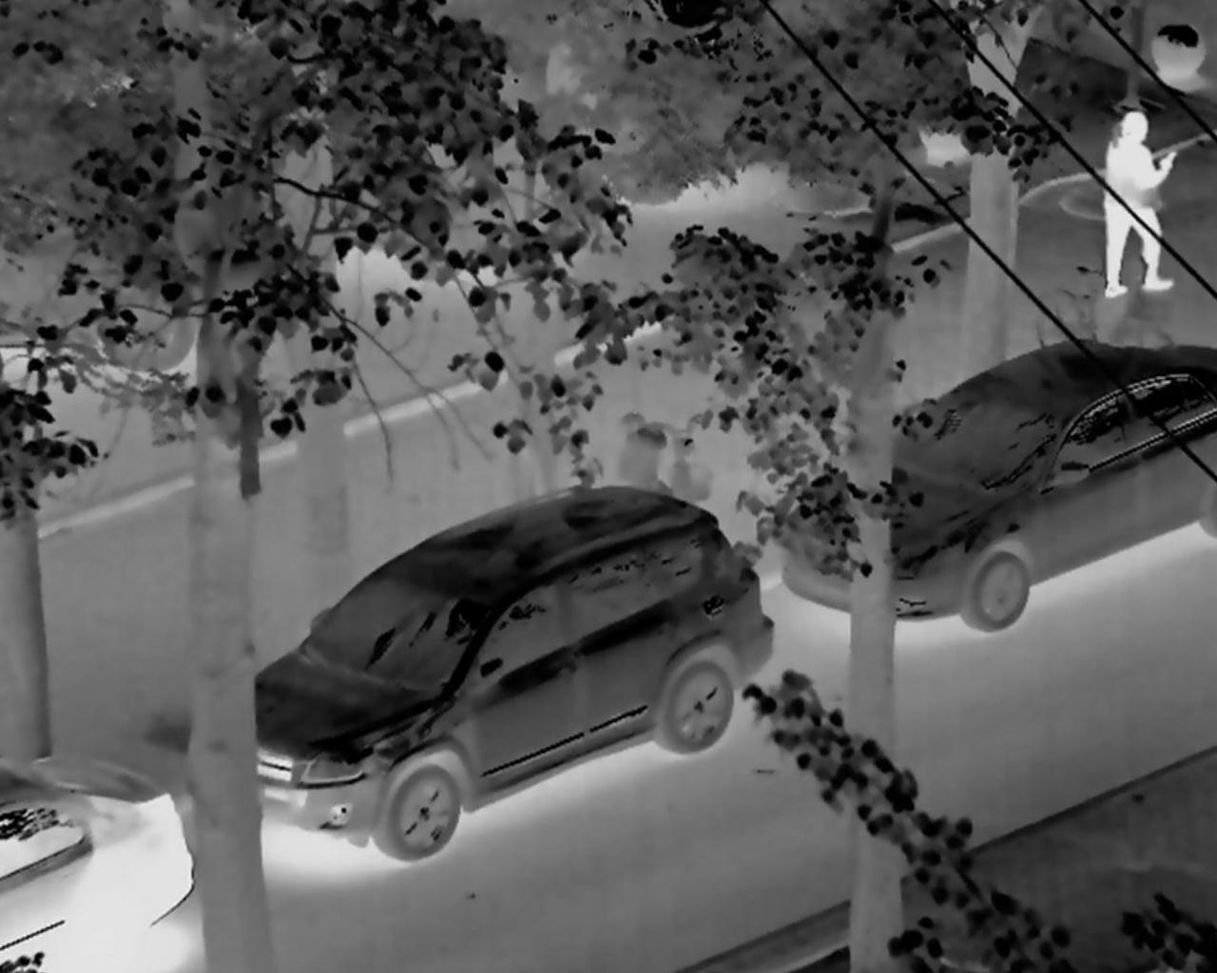person: (1105, 107, 1177, 300)
